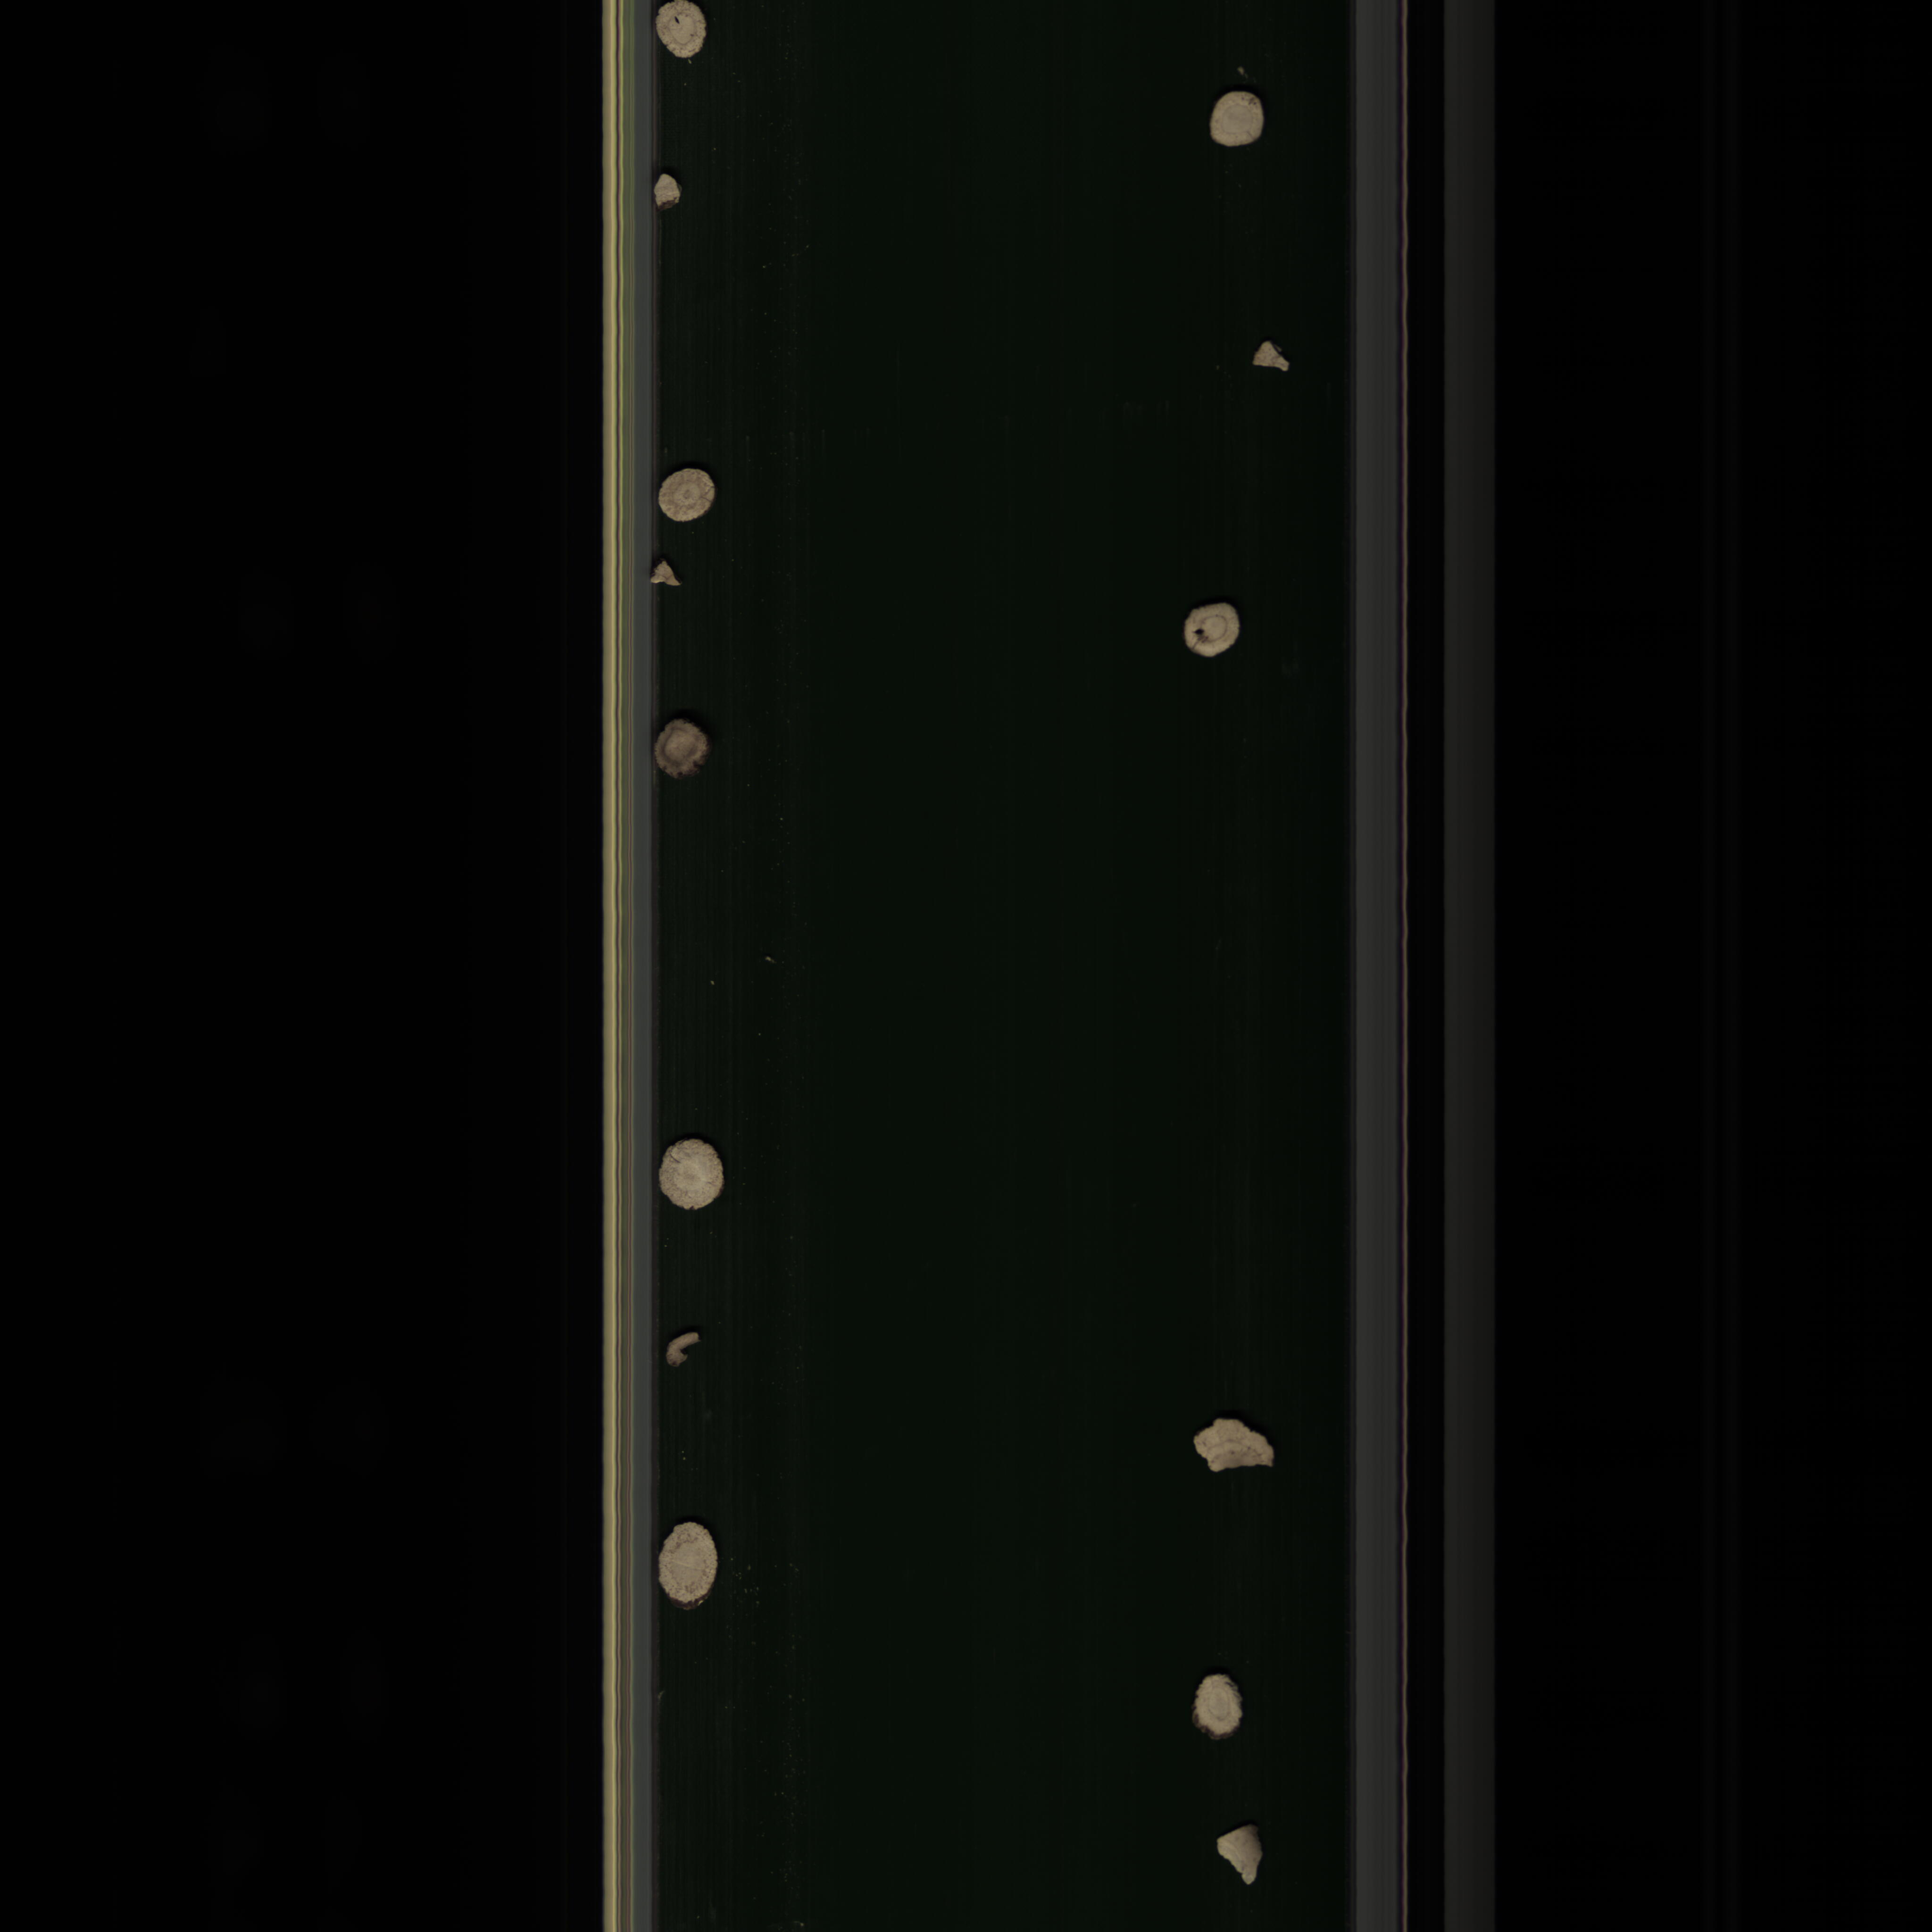debris: (1178, 1419, 1277, 1483), (1200, 1815, 1270, 1895), (1235, 333, 1304, 387), (658, 1323, 708, 1375), (648, 165, 695, 218), (649, 550, 694, 598)
hole: (1173, 593, 1244, 672)
moldy: (644, 709, 720, 786)
